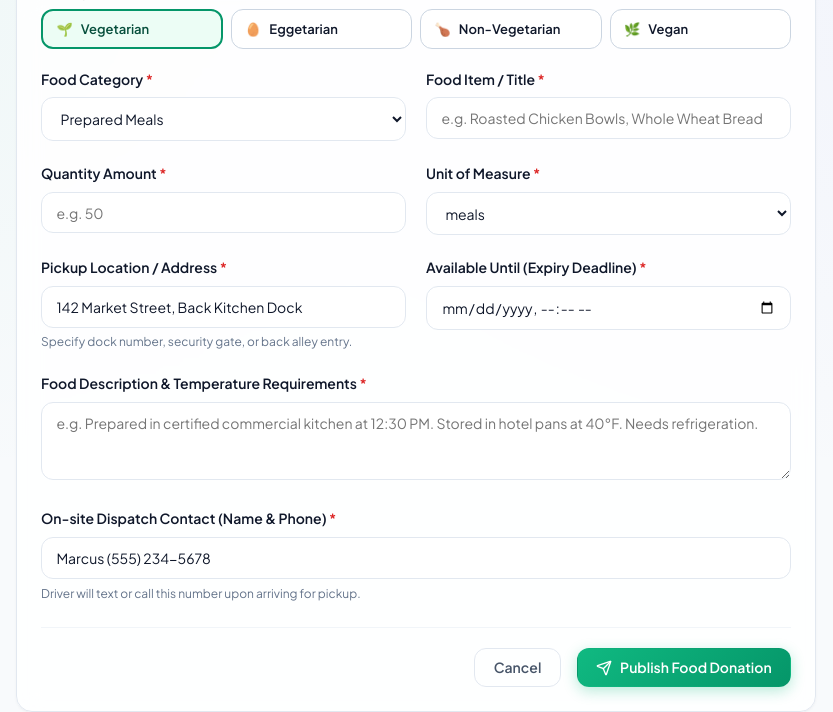
Test: CreateDonationPage - Form & Creation Workflow › validates required fields and shows inline error messages
(page scrolled)
# Click submit without entering food name
What coordinates should you click on to do the following:
click the button with test id "submit-donation-btn"
I would click on:
 (684, 668)
Its box is [577,648,791,687].
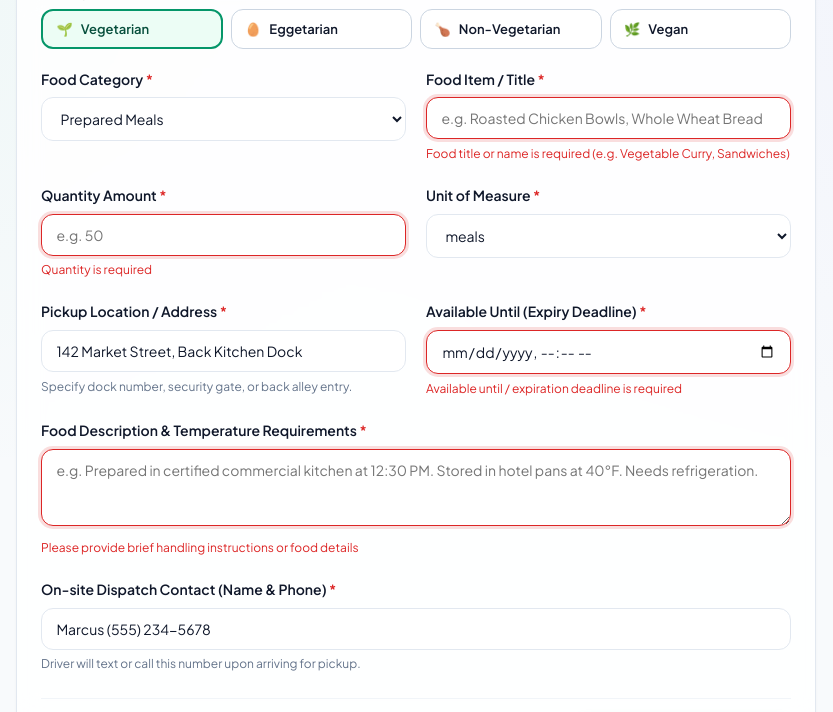
Result: the text "Food title or name is required (e.g. Vegetable Curry, Sandwiches)" is shown at [426,145,791,163]
Result: the text "Quantity is required" is shown at [41,262,152,277]
